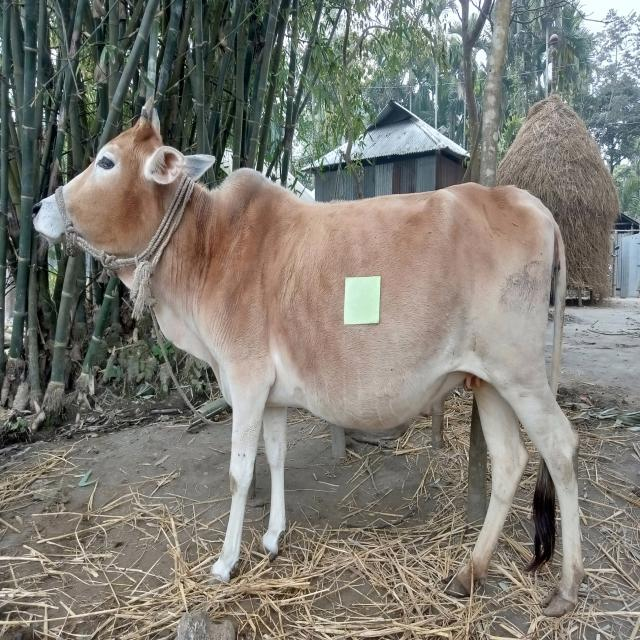badan_sapi: (229, 194, 526, 408)
sapi: (33, 92, 594, 624)
